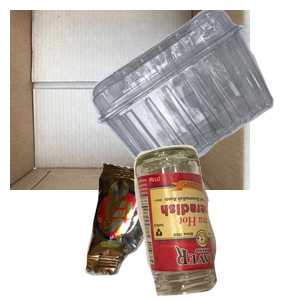cardboard: (10, 10, 250, 190)
glass: (131, 142, 300, 300)
plastic: (88, 10, 300, 180)
trash: (83, 160, 233, 300)
